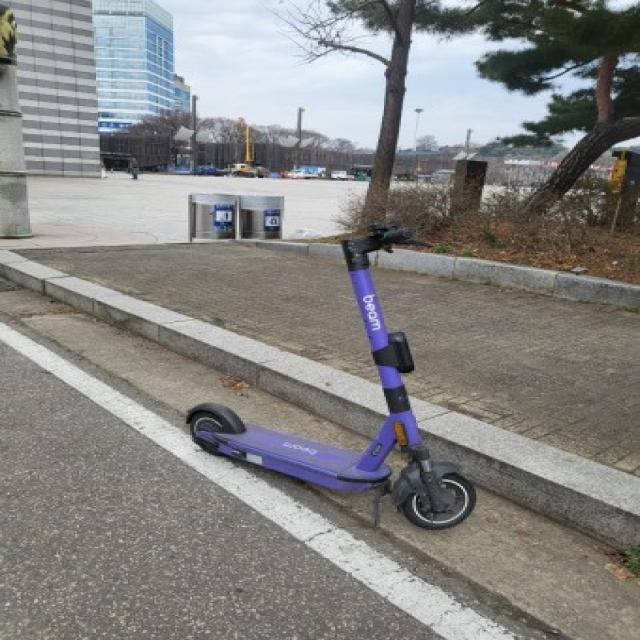curb: (0, 251, 386, 436), (411, 399, 640, 549), (371, 249, 640, 308), (240, 241, 340, 258)
kick-board: (187, 225, 476, 528)
road: (2, 346, 445, 640), (250, 471, 560, 640)
sidewalk: (374, 269, 638, 473), (20, 242, 376, 381)
verge: (0, 288, 366, 449), (383, 489, 640, 640)
